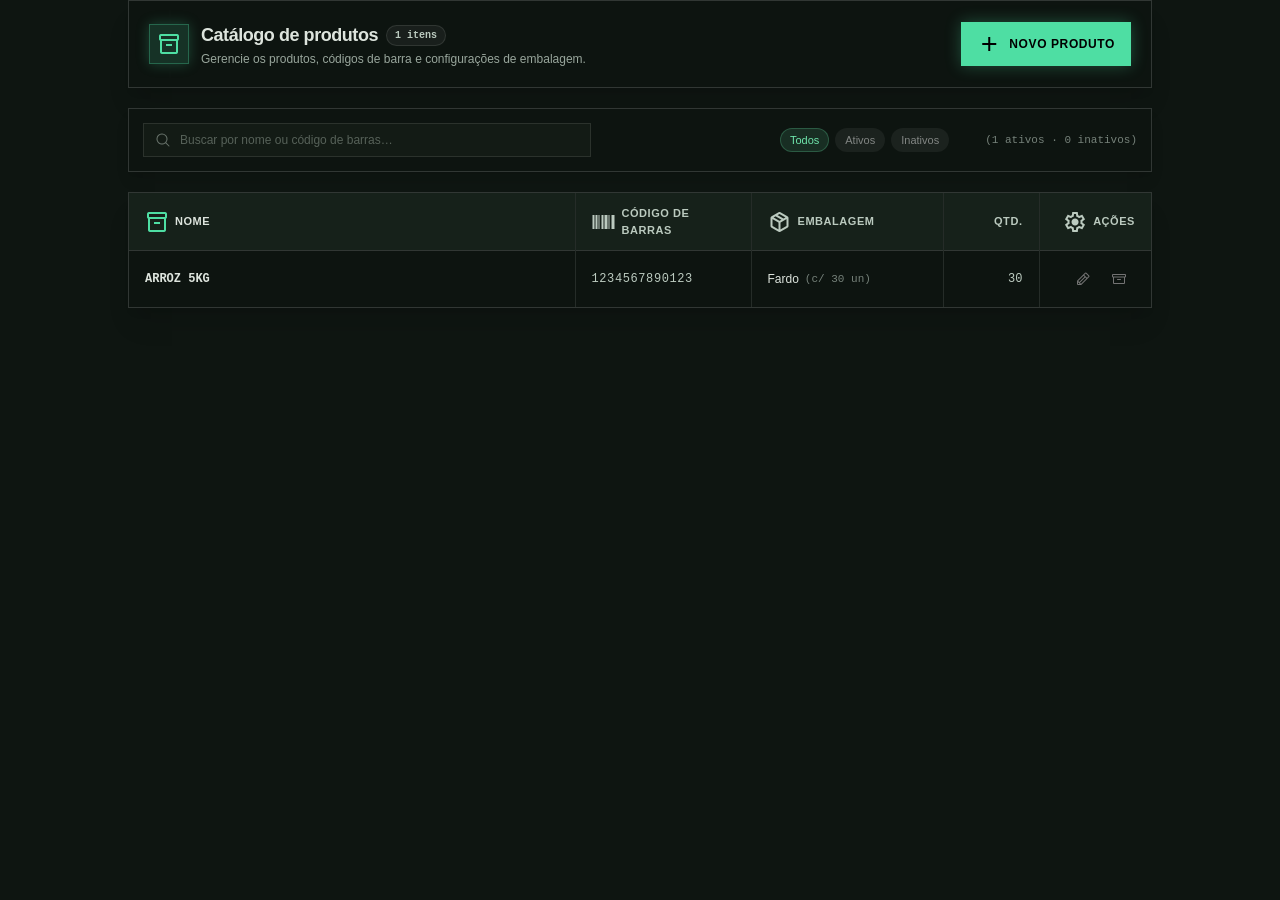
Test: abre o formulário de novo produto, preenche e salva
The image size is (1280, 900).
Expected: the button "Arroz 5kg" is shown, [145,271,210,287]
Click the button "Novo produto" at (1046, 44), box [961,22,1131,66]
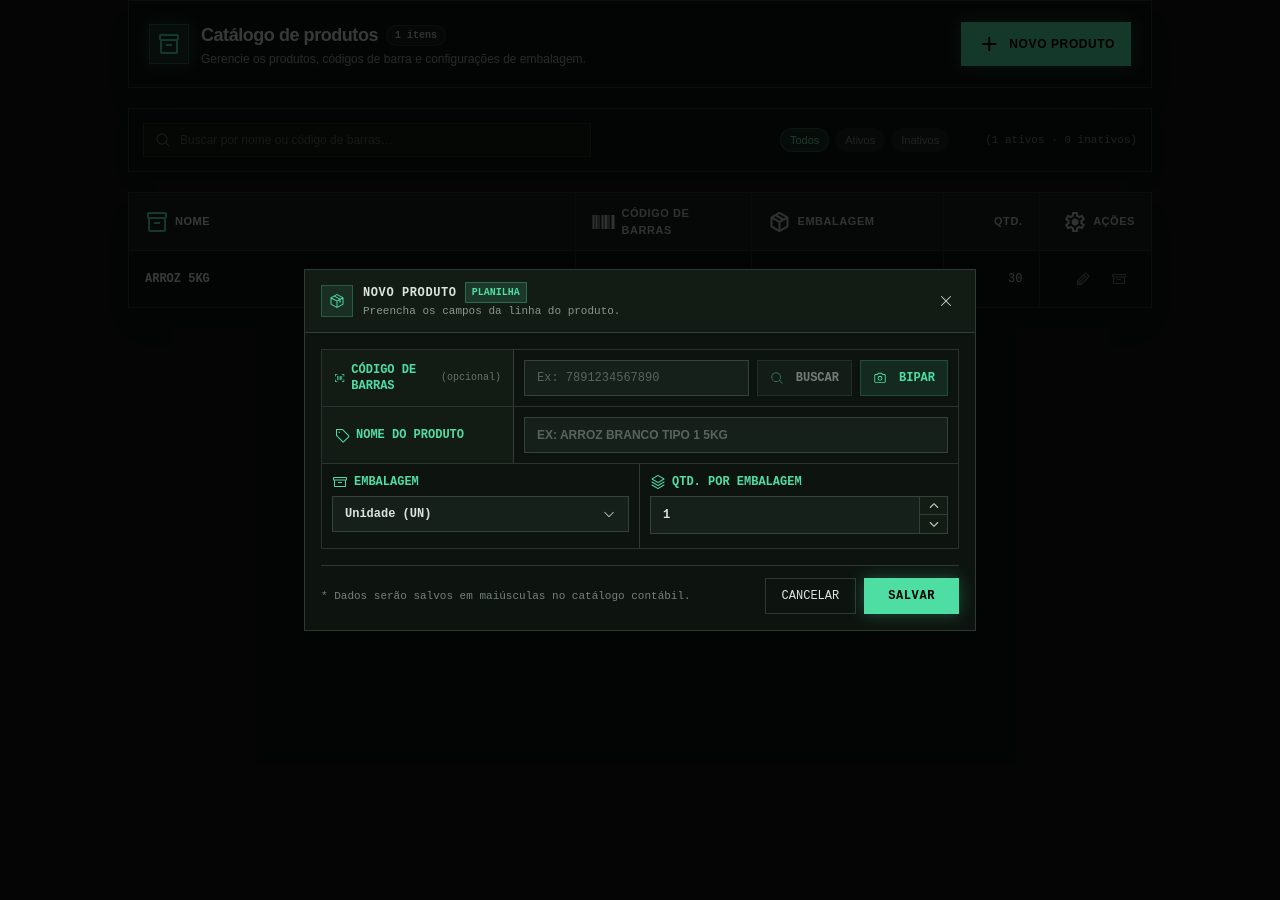
Type "7891234567890" into the field labelled "Código de barras" at (636, 378), box [524,360,749,396]
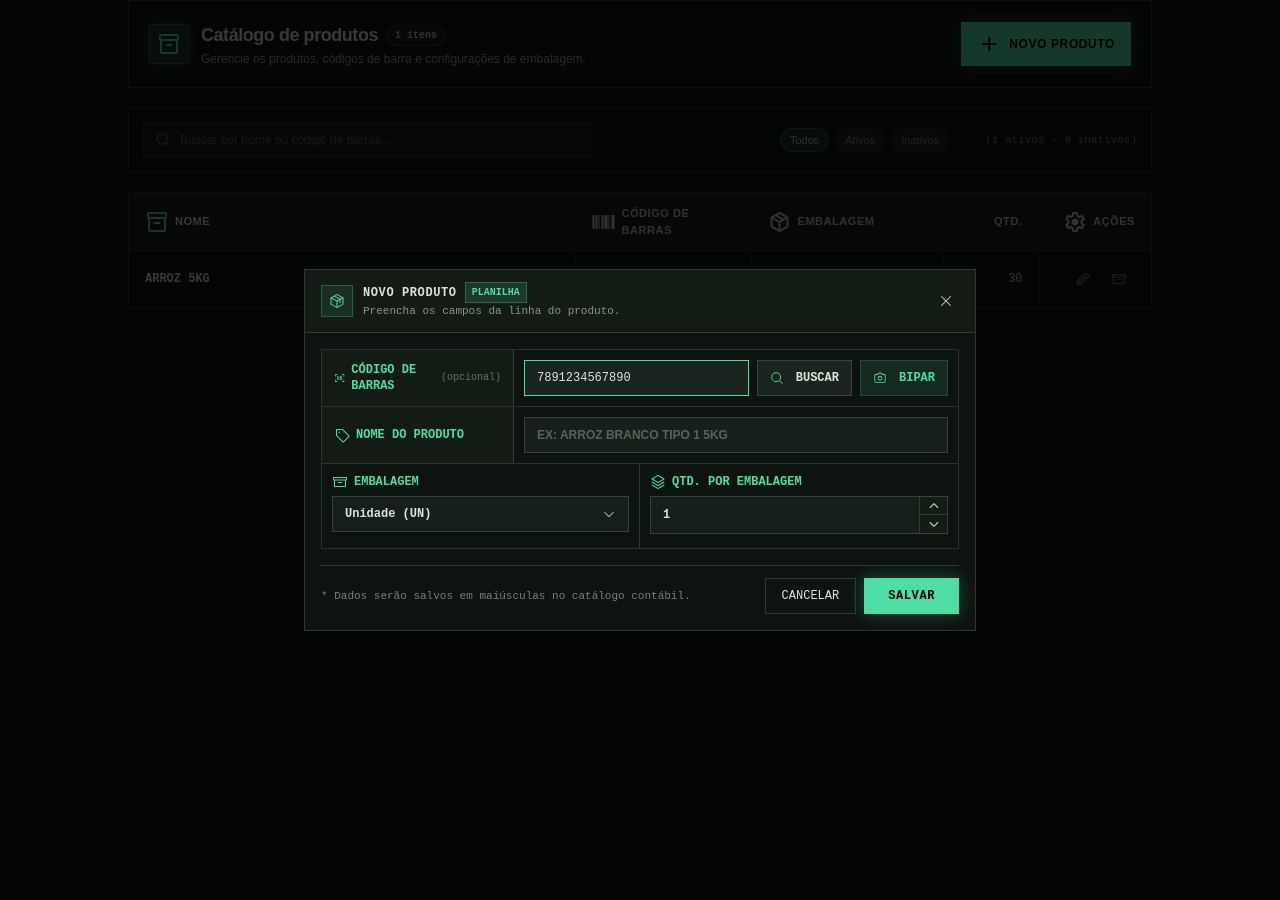
Type "Feijão 1kg" into the dropdown labelled "Nome do produto" at (736, 435), box [524,417,948,453]
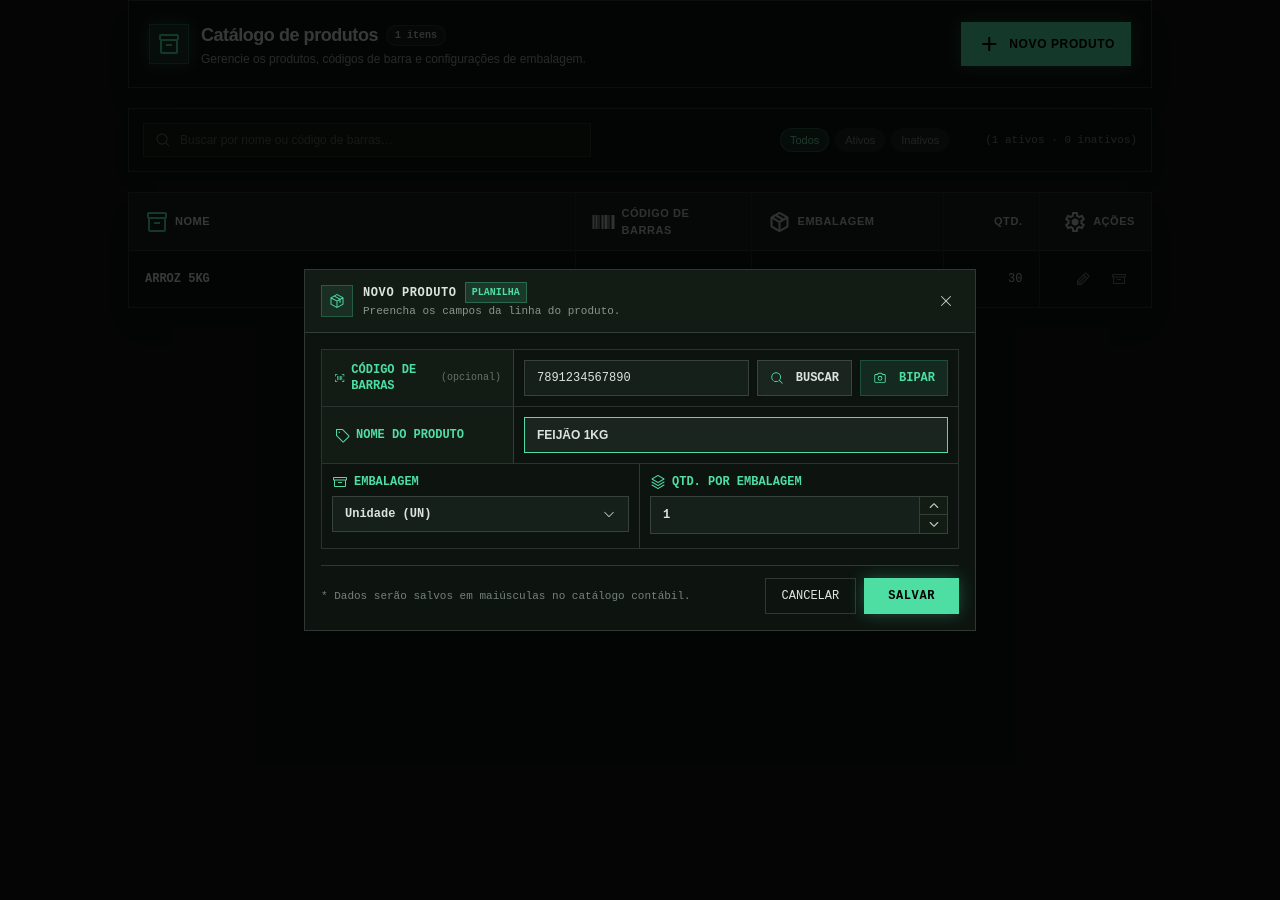
Replace the text in the number field labelled "Qtd. por embalagem" with "10" at (799, 515), box [651,497,947,533]
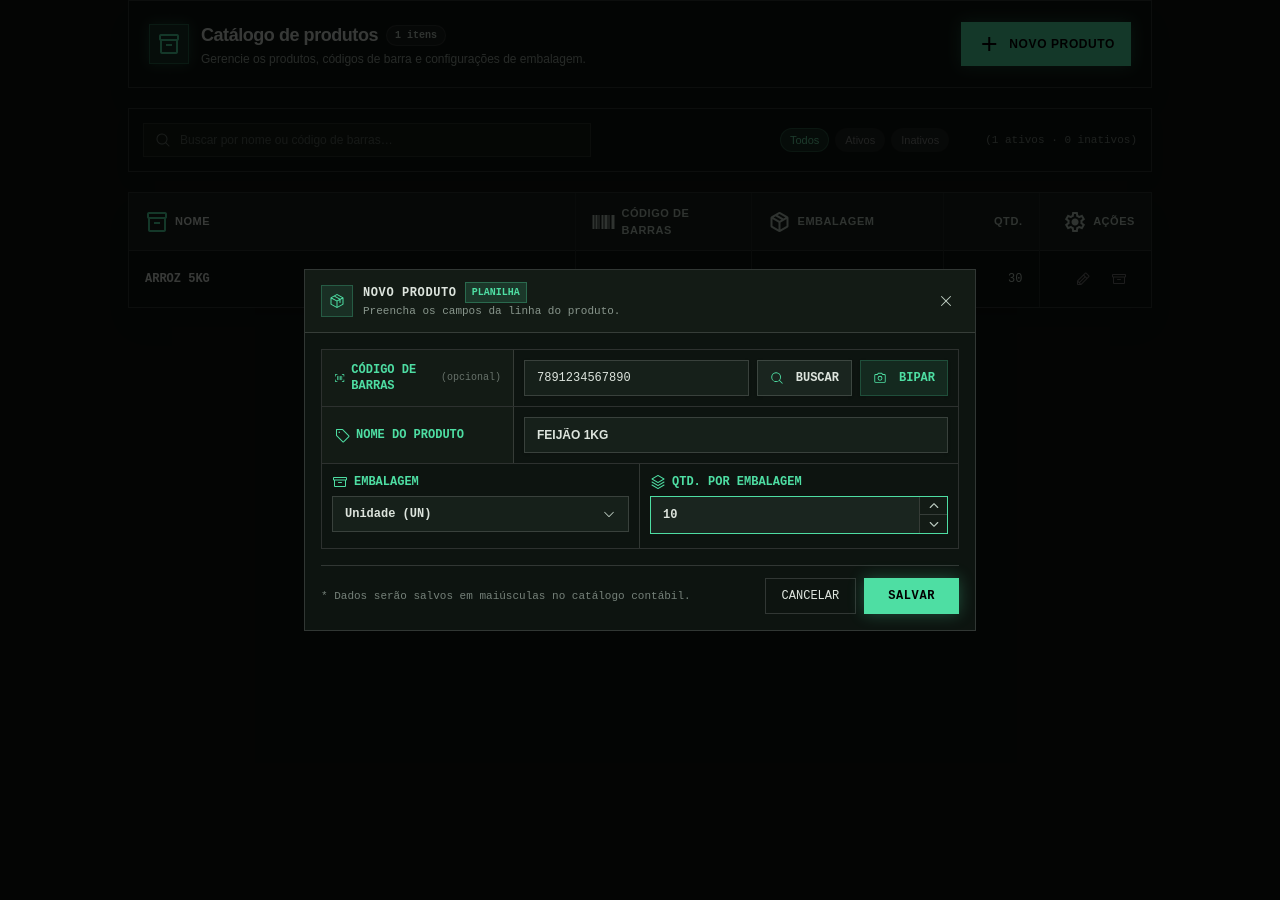
Click the button "Salvar" at (912, 596), box [864,578,959,614]
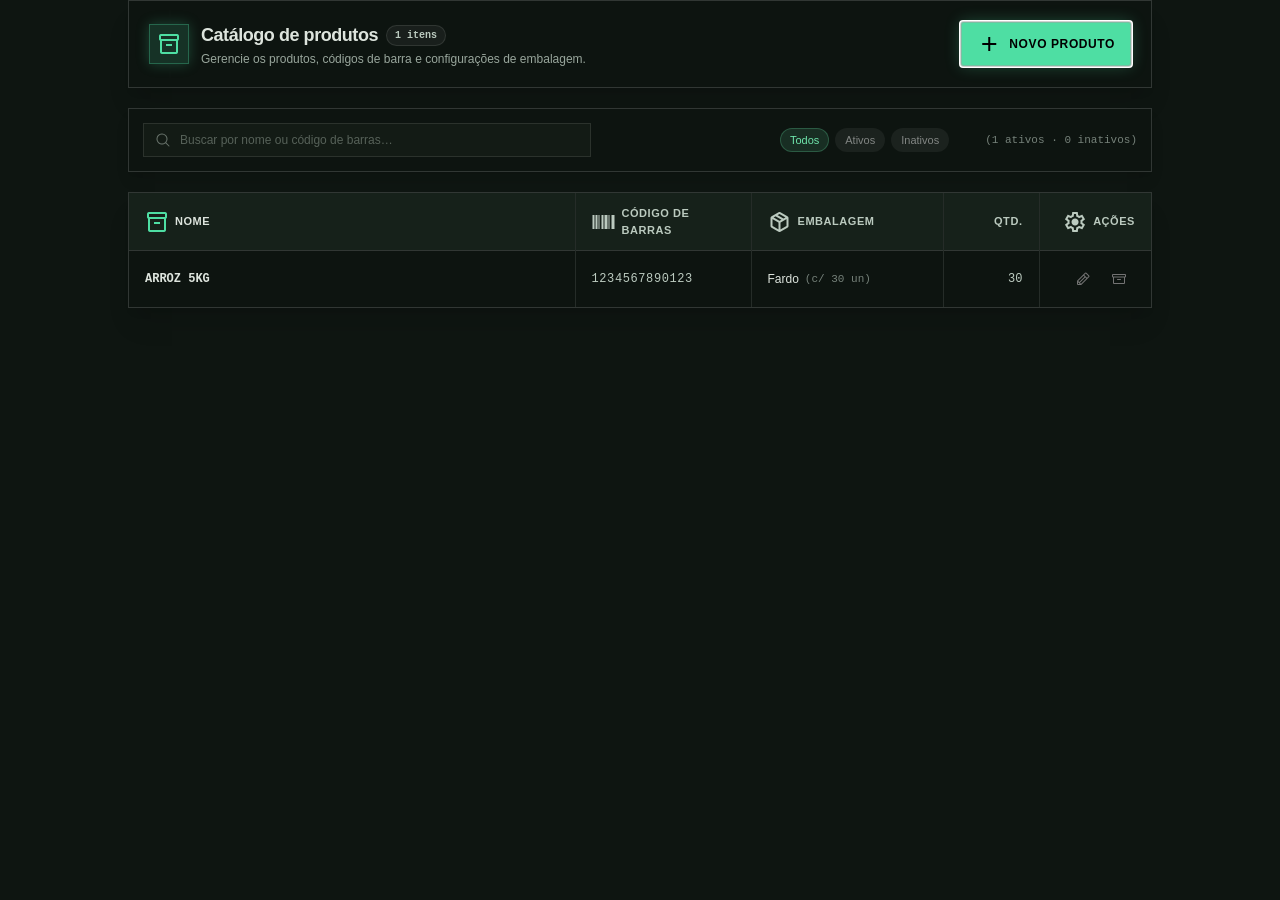
Expected: the dialog is gone
